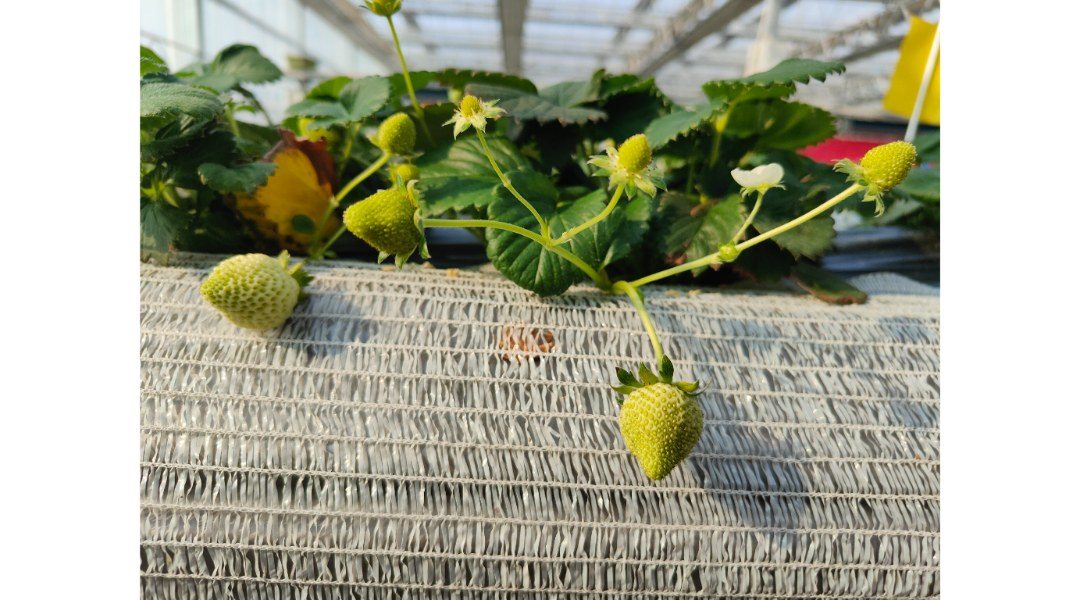berry: (604, 363, 717, 497), (204, 249, 306, 341), (841, 126, 933, 218), (336, 184, 432, 260), (578, 134, 679, 204), (442, 78, 500, 142), (382, 98, 424, 176)
flower: (724, 153, 787, 198)
strain: (478, 137, 556, 232), (755, 190, 861, 252), (620, 291, 677, 382), (424, 207, 537, 252), (561, 186, 618, 240), (640, 258, 715, 297), (552, 248, 598, 276)
